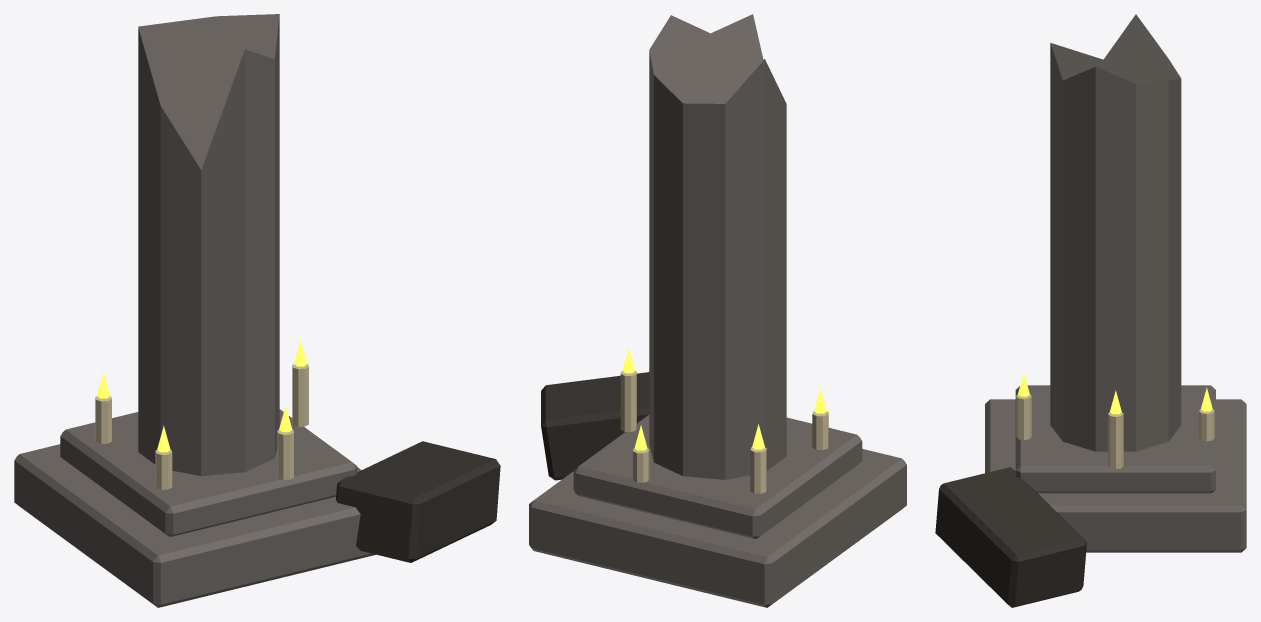
File: DM_Pillar.fbx
The picture shows the model from 3 angles, left to right: view 1: azimuth 30°, elevation 25°; view 2: azimuth 150°, elevation 25°; view 3: azimuth 270°, elevation 25°; orthographic projection. The views are drawn at different scales.
Visible parts, largest first — view 1: DM_Pillar; view 2: DM_Pillar; view 3: DM_Pillar.
Part boxes in pixels (x1,y1,x2,y2): DM_Pillar: (14,14,500,607); DM_Pillar: (529,14,906,607); DM_Pillar: (935,14,1246,607).
Bounding box in the file's own units: 2.16 × 2.96 × 1.78.
